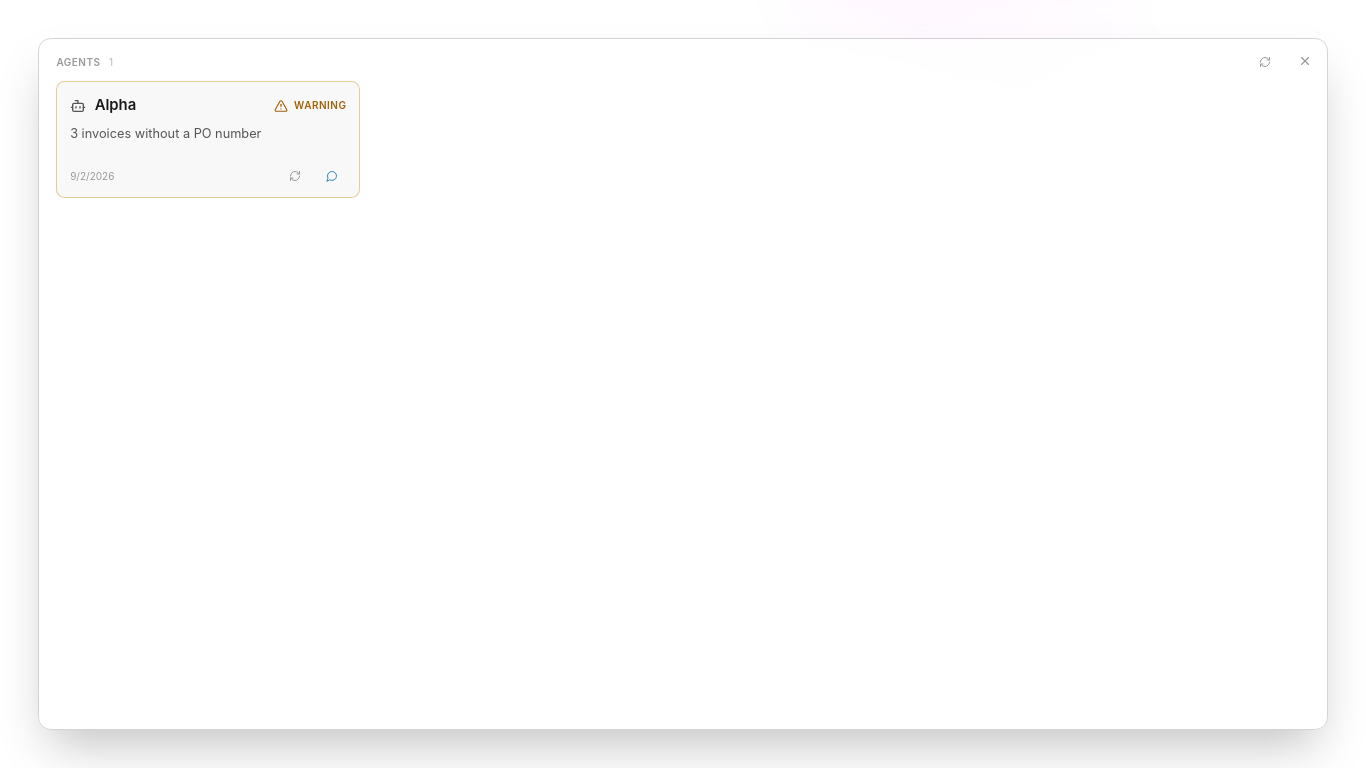
Test case: AgentStatusOverlay — the per-card Refresh › says so when a refresh fails instead of just stopping the spinner
This screenshot has width=1366, height=768.
Check: the text "Alpha" is shown, box [95,96,136,114]
What coordinates should you click on to do the following:
click the button titled "status refresh command"
I would click on:
 (295, 176)
Its box is [280,161,310,191].
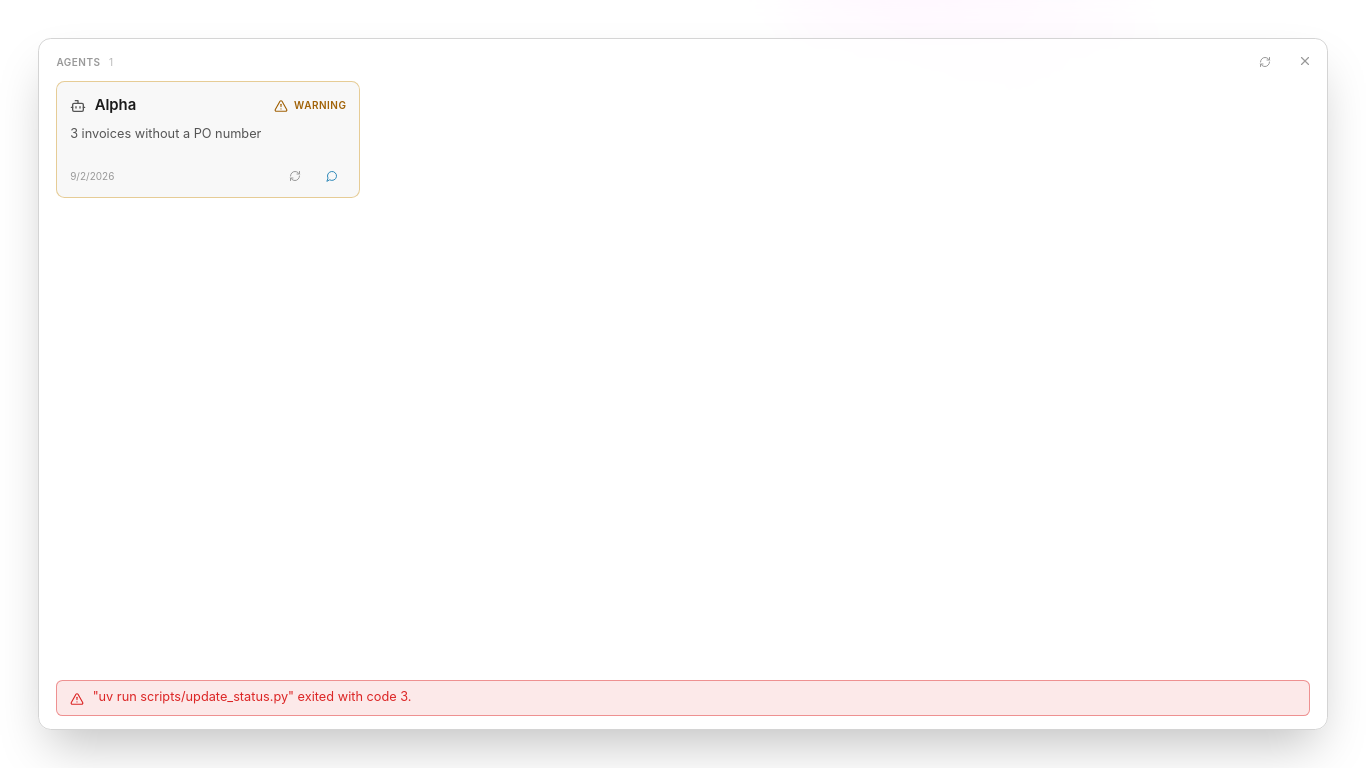
Check: the text "Alpha" is shown, box [95,96,136,114]
Check: the text "\"uv run scripts/update_status.py\" exited with code 3." is shown, box [93,689,412,706]
